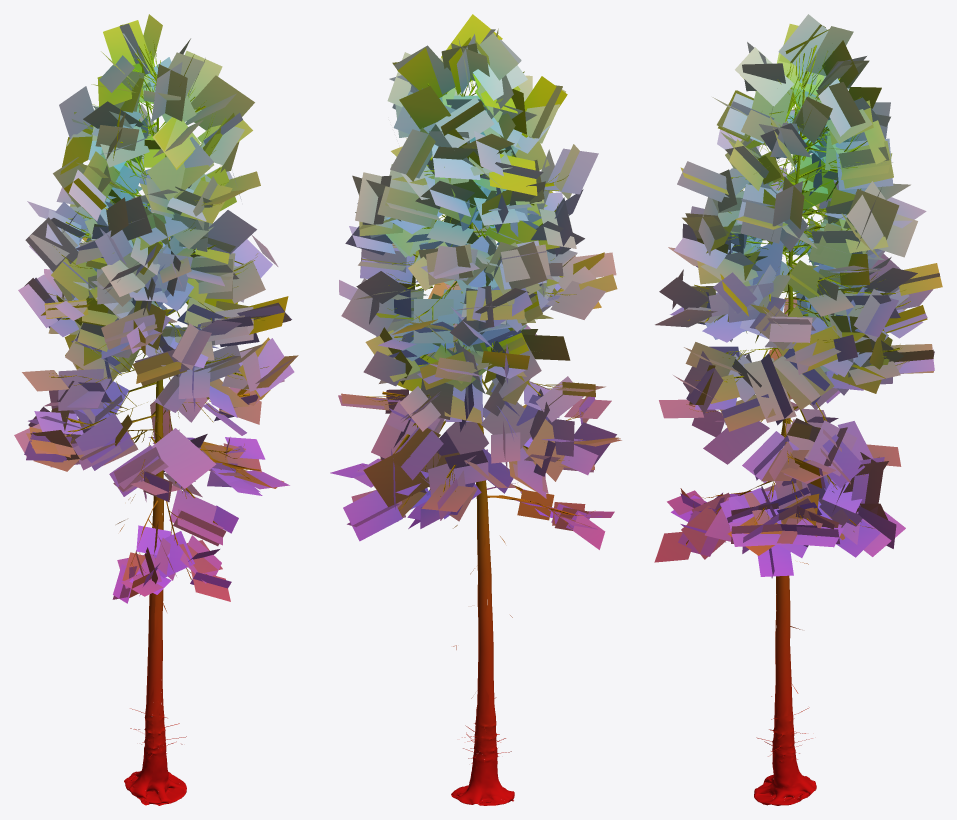
Rendered from fir_a.glb.
3 renders of one model, left to right at view 1: azimuth 30°, elevation 25°; view 2: azimuth 150°, elevation 25°; view 3: azimuth 270°, elevation 25°, orthographic. The views are drawn at different scales.
Parts seen in each view (by area): view 1: cards_lod0, trunk_lod0, branches_lod0; view 2: cards_lod0, trunk_lod0, branches_lod0; view 3: cards_lod0, trunk_lod0, branches_lod0.
Boxes of the visible parts, x1,y1,x2,y2 form: cards_lod0: (14, 14, 298, 603); trunk_lod0: (124, 117, 186, 805); branches_lod0: (48, 42, 268, 703); cards_lod0: (330, 14, 621, 549); trunk_lod0: (451, 93, 514, 805); branches_lod0: (360, 78, 595, 698); cards_lod0: (654, 14, 942, 578); trunk_lod0: (754, 90, 816, 805); branches_lod0: (686, 45, 910, 696).
Size of what is drawn, in the model's own units: 5.41 by 15.23 by 5.19.
